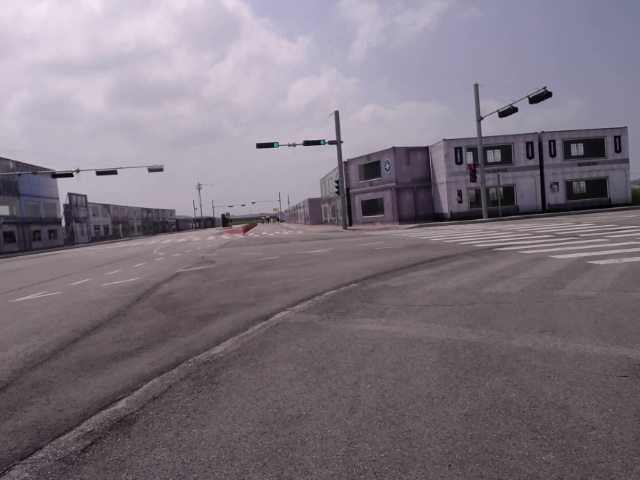straight_green_4: (255, 142, 279, 149), (303, 140, 324, 146)
